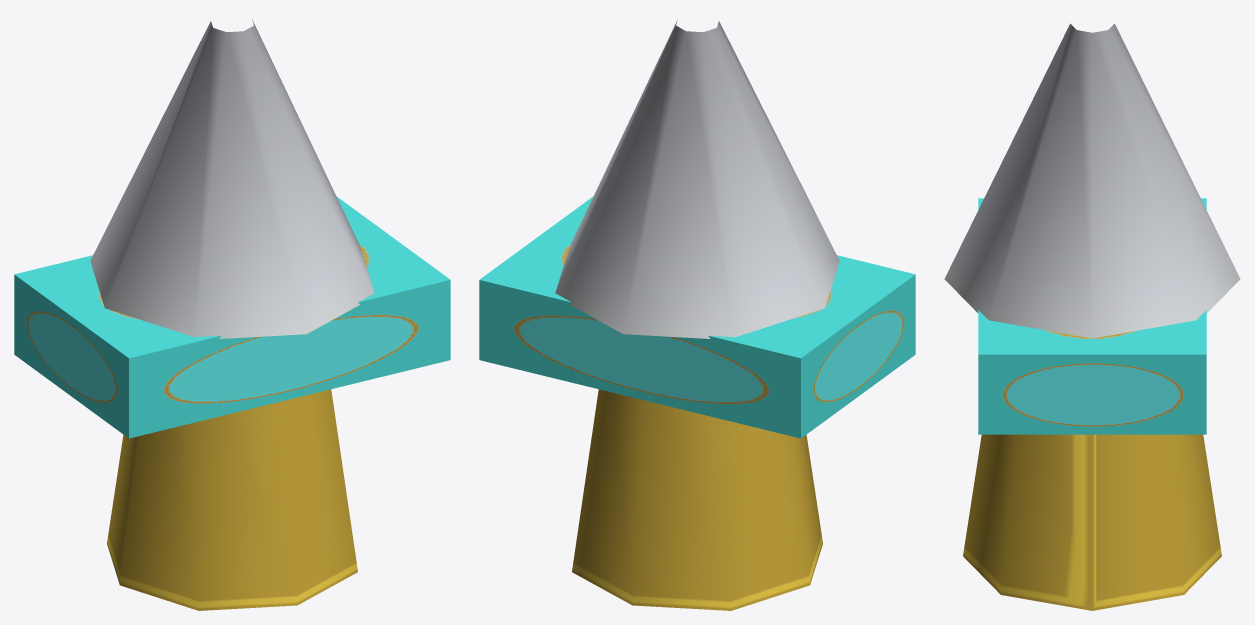
The model's file is armor_astral_cuirass.glb.
3 renders of one model, left to right at view 1: azimuth 30°, elevation 25°; view 2: azimuth 150°, elevation 25°; view 3: azimuth 270°, elevation 25°, orthographic.
Parts seen in each view (by area): view 1: armor_astral_cuirass; view 2: armor_astral_cuirass; view 3: armor_astral_cuirass.
Part boxes in pixels (x1=…): armor_astral_cuirass: x1=14, y1=19, x2=450, y2=610; armor_astral_cuirass: x1=479, y1=19, x2=915, y2=610; armor_astral_cuirass: x1=944, y1=23, x2=1240, y2=610.
Bounding box in the file's own units: 0.68 × 1.08 × 0.544.
Materials: 1 (1 with a texture image).
